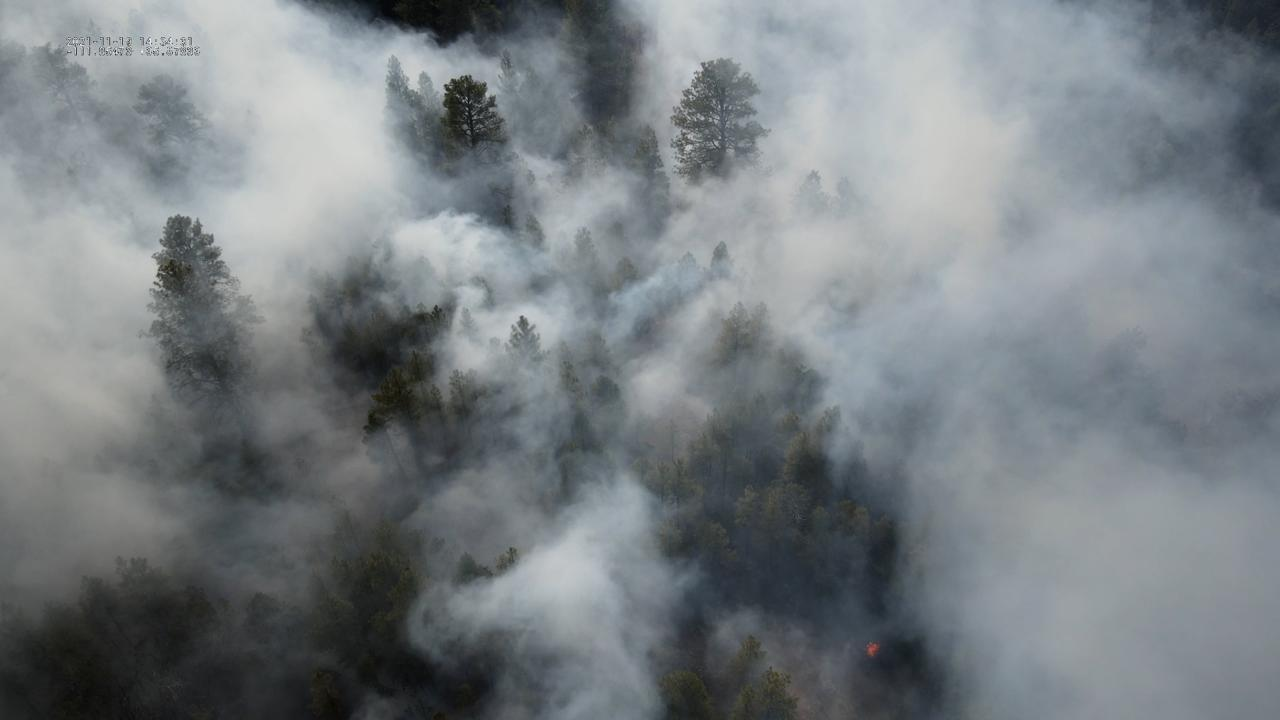fire: (865, 642, 882, 660)
smoke: (0, 0, 1280, 720)
